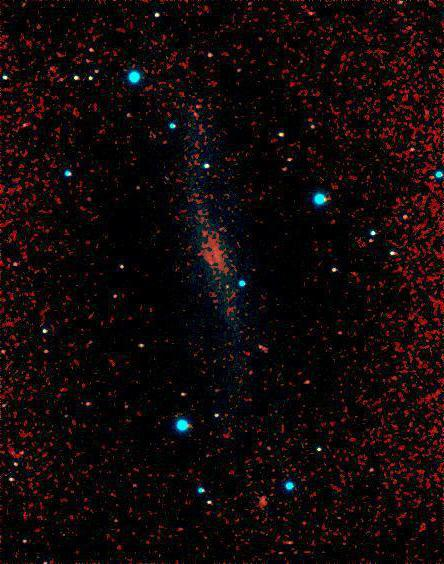star: (191, 218, 221, 248)
